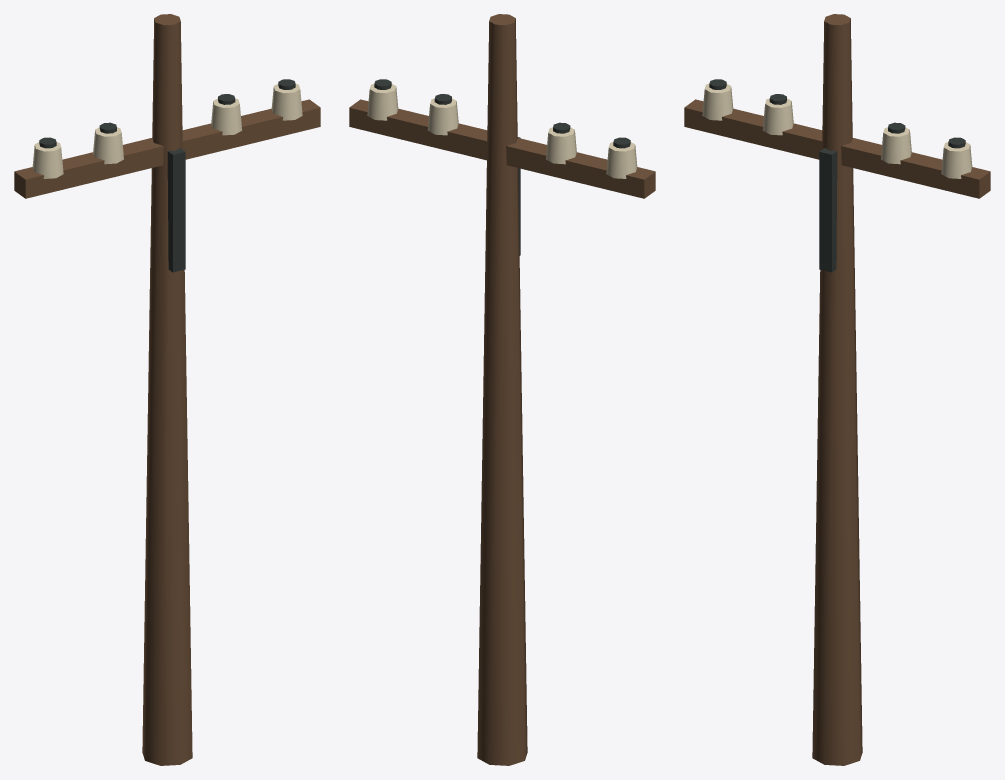
File: pole.glb
3 views of the same model, side by side, from view 1: azimuth 30°, elevation 25°; view 2: azimuth 150°, elevation 25°; view 3: azimuth 330°, elevation 25° (orthographic).
Visible parts, largest first — view 1: Utility pole, Cross arm, Insulator (×4), Lower brace; view 2: Utility pole, Cross arm, Insulator (×4); view 3: Utility pole, Cross arm, Insulator (×4), Lower brace.
Part boxes in pixels (x1,y1,x2,y2): Utility pole: (142,14,192,765); Cross arm: (14,99,320,198); Insulator (×4): (32,84,302,178); Lower brace: (167,148,185,272); Utility pole: (477,14,527,765); Cross arm: (349,99,655,198); Insulator (×4): (367,84,637,178); Utility pole: (812,14,862,765); Cross arm: (684,99,990,198); Insulator (×4): (702,84,972,178); Lower brace: (819,148,837,272).
Size of the model in its own units: 2.1 by 5 by 0.32.
